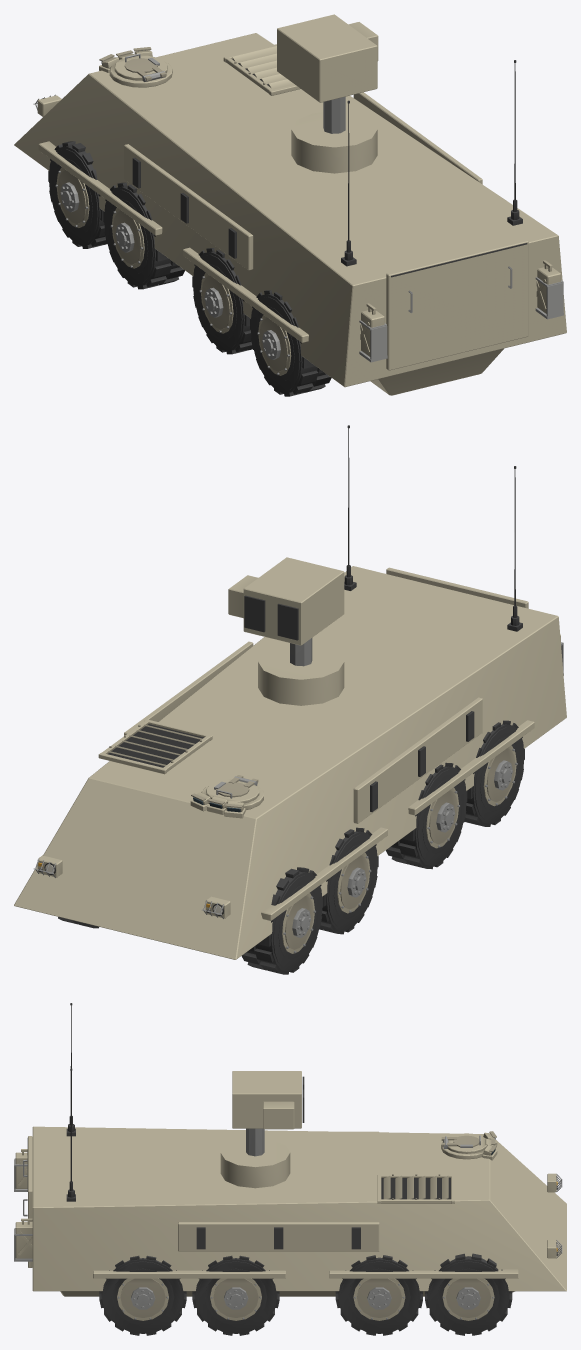
File: usa_td_atgm.glb
3 views of the same model, one above another, from view 1: azimuth 30°, elevation 25°; view 2: azimuth 150°, elevation 25°; view 3: azimuth 270°, elevation 25° (orthographic). The views are drawn at different scales.
Visible parts, largest first — view 1: body, door, barrel, turret, wheel_2, wheel_6, wheel_0, wheel_4; view 2: body, barrel, turret, wheel_0, wheel_4, wheel_6, wheel_2, door; view 3: body, wheel_1, wheel_3, wheel_5, wheel_7, barrel, turret, door.
Boxes of the visible parts, x1,y1,x2,y2 form: body: (14, 33, 566, 395); door: (386, 239, 528, 370); barrel: (277, 14, 378, 102); turret: (291, 96, 377, 173); wheel_2: (103, 182, 184, 289); wheel_6: (250, 290, 331, 396); wheel_0: (48, 141, 107, 248); wheel_4: (192, 248, 252, 354); body: (14, 425, 566, 959); barrel: (228, 557, 344, 645); turret: (258, 638, 344, 705); wheel_0: (241, 867, 323, 974); wheel_4: (386, 762, 467, 869); wheel_6: (464, 720, 524, 826); wheel_2: (319, 827, 378, 934); door: (386, 567, 528, 608); body: (14, 1003, 566, 1296); wheel_1: (425, 1253, 512, 1335); wheel_3: (335, 1255, 422, 1335); wheel_5: (192, 1255, 279, 1335); wheel_7: (99, 1255, 186, 1335); barrel: (232, 1071, 304, 1129); turret: (220, 1128, 290, 1188); door: (23, 1136, 32, 1267).
Size of the model in its own units: 2.88 by 3.65 by 7.13.
